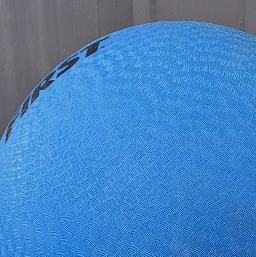algae: (0, 21, 256, 257)
